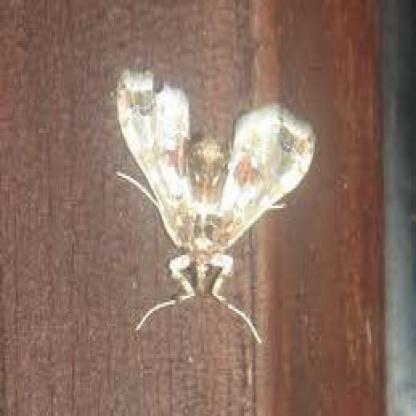leucinodes: (115, 70, 317, 296)
